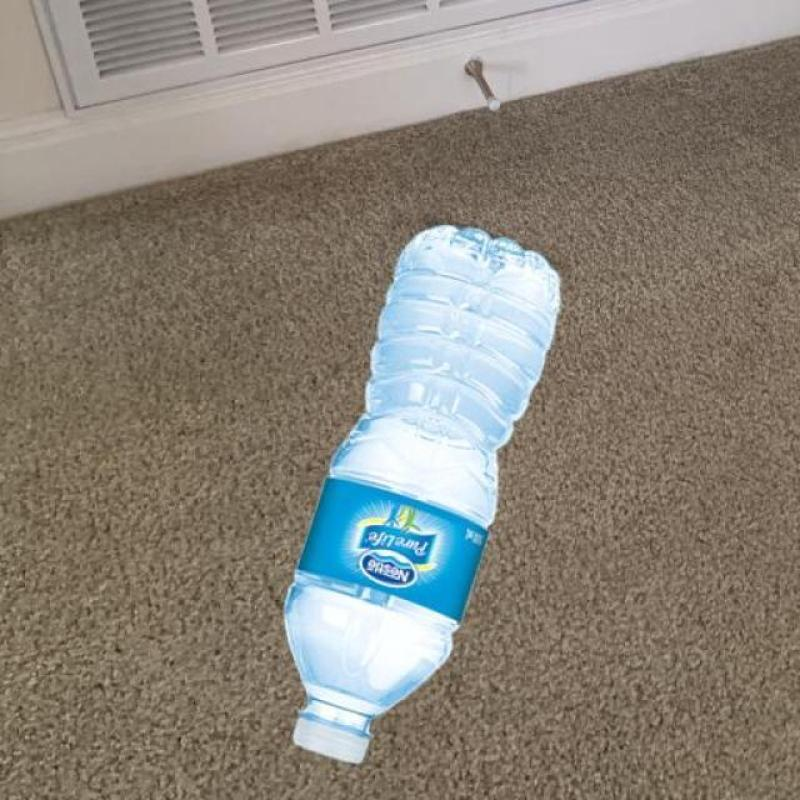botella: (284, 216, 566, 765)
